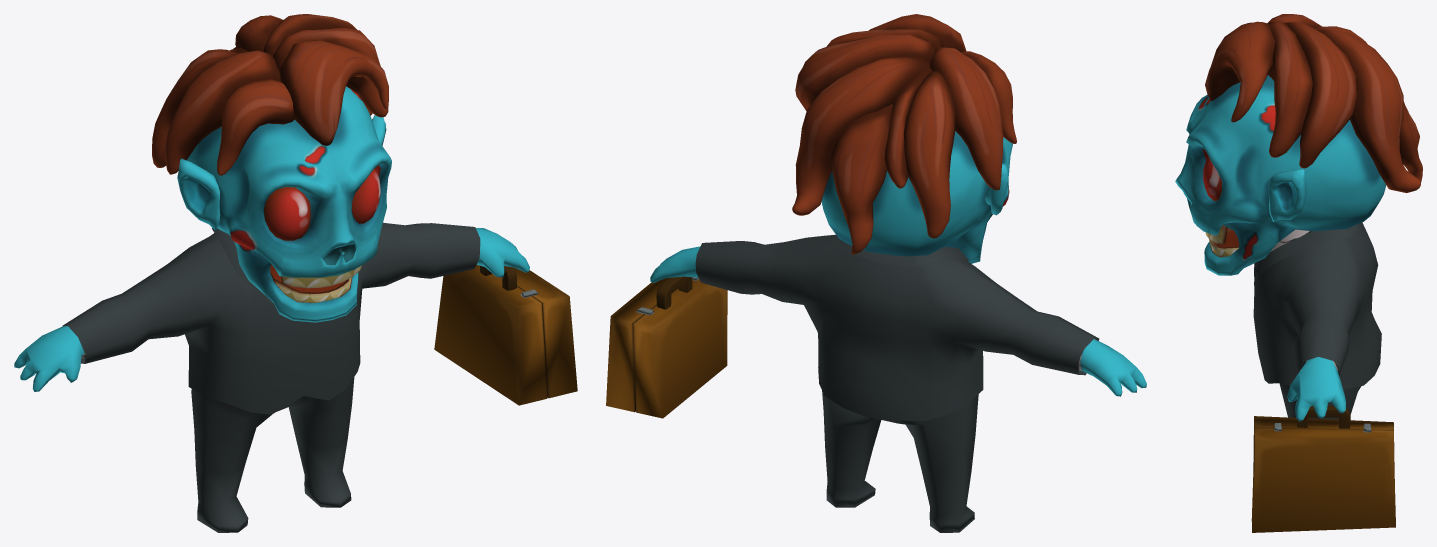
The model's file is SpaceZombie.fbx.
3 views of the same model, side by side, from view 1: azimuth 30°, elevation 25°; view 2: azimuth 150°, elevation 25°; view 3: azimuth 270°, elevation 25° (orthographic). The views are drawn at different scales.
Parts seen in each view (by area): view 1: HEAD, BODY, SUITCASE; view 2: BODY, HEAD, SUITCASE; view 3: HEAD, BODY, SUITCASE.
Boxes of the visible parts, x1,y1,x2,y2 form: HEAD: [152, 14, 391, 322]; BODY: [14, 222, 529, 532]; SUITCASE: [434, 264, 577, 405]; BODY: [650, 234, 1146, 532]; HEAD: [792, 14, 1016, 263]; SUITCASE: [606, 276, 727, 418]; HEAD: [1175, 14, 1422, 275]; BODY: [1253, 222, 1381, 421]; SUITCASE: [1251, 405, 1395, 532].
Bounding box in the file's own units: 5.54 × 4.96 × 2.43.
Materials: 3 (3 with a texture image).
